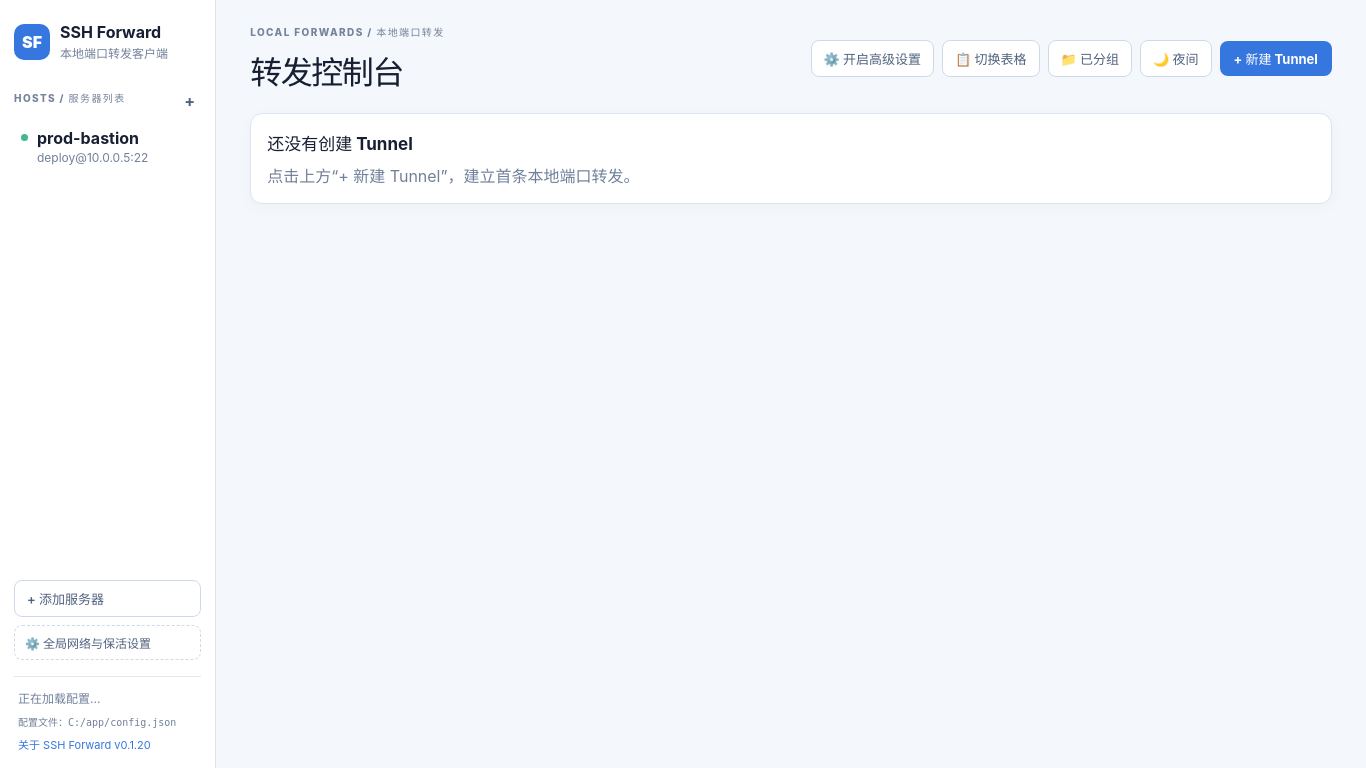
设置面板与 1.5 秒轮询的交互（B2 回归） › 放弃编辑后重新打开面板会回到后端值
Check: the text "prod-bastion" is shown, box x1=37 y1=128 x2=148 y2=148
Click the button "⚙️ 全局网络与保活设置" at {"x": 108, "y": 643}, box x1=14 y1=625 x2=201 y2=660
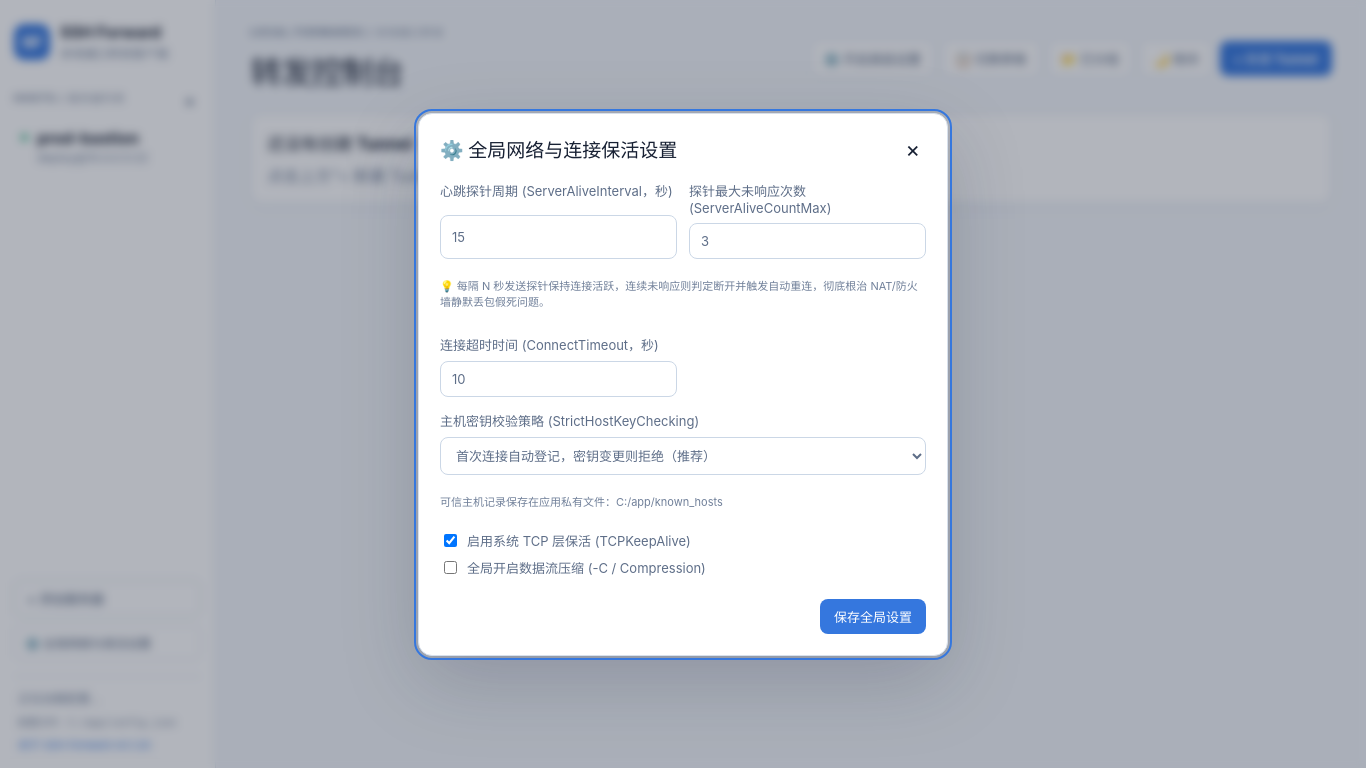
Replace the text in the number field labelled "心跳探针周期 (ServerAliveInterval，秒)" with "99" at {"x": 558, "y": 236}, box x1=440 y1=214 x2=677 y2=258
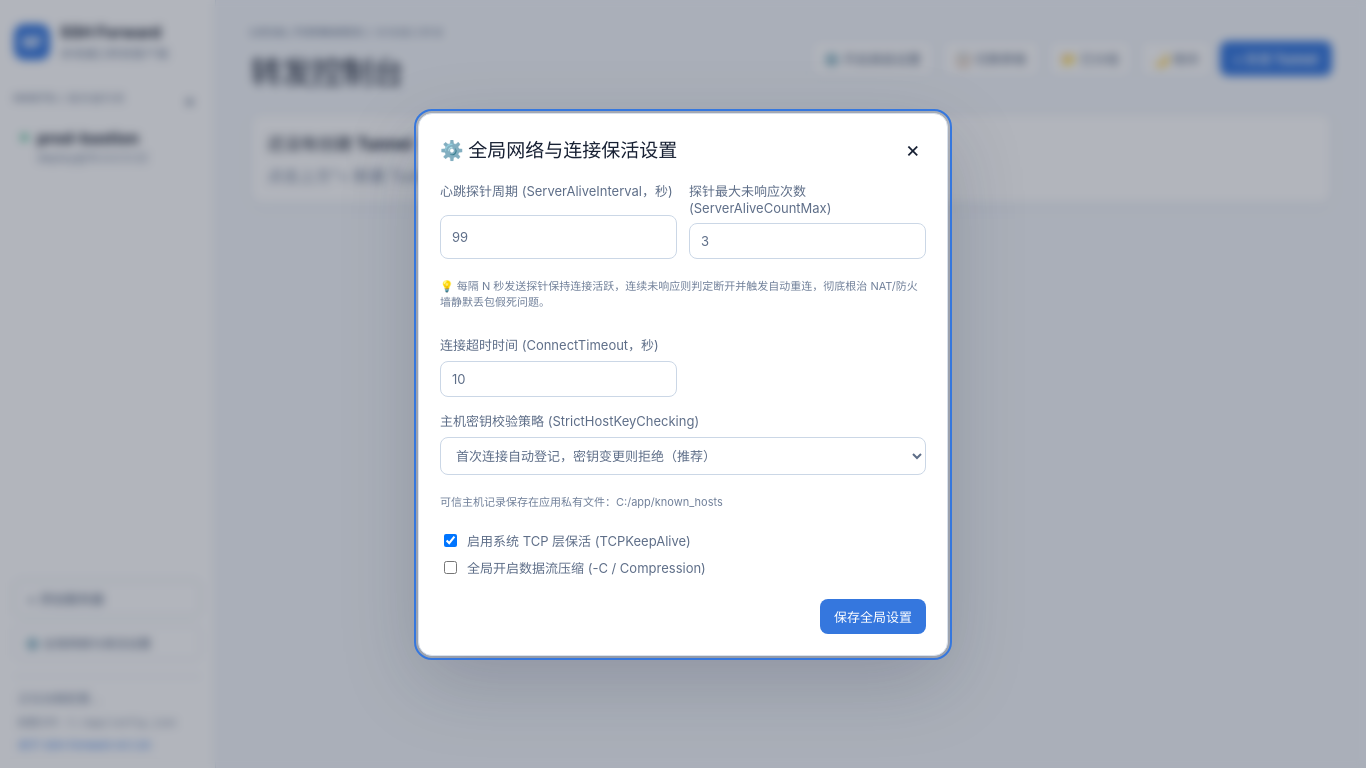
Press Escape
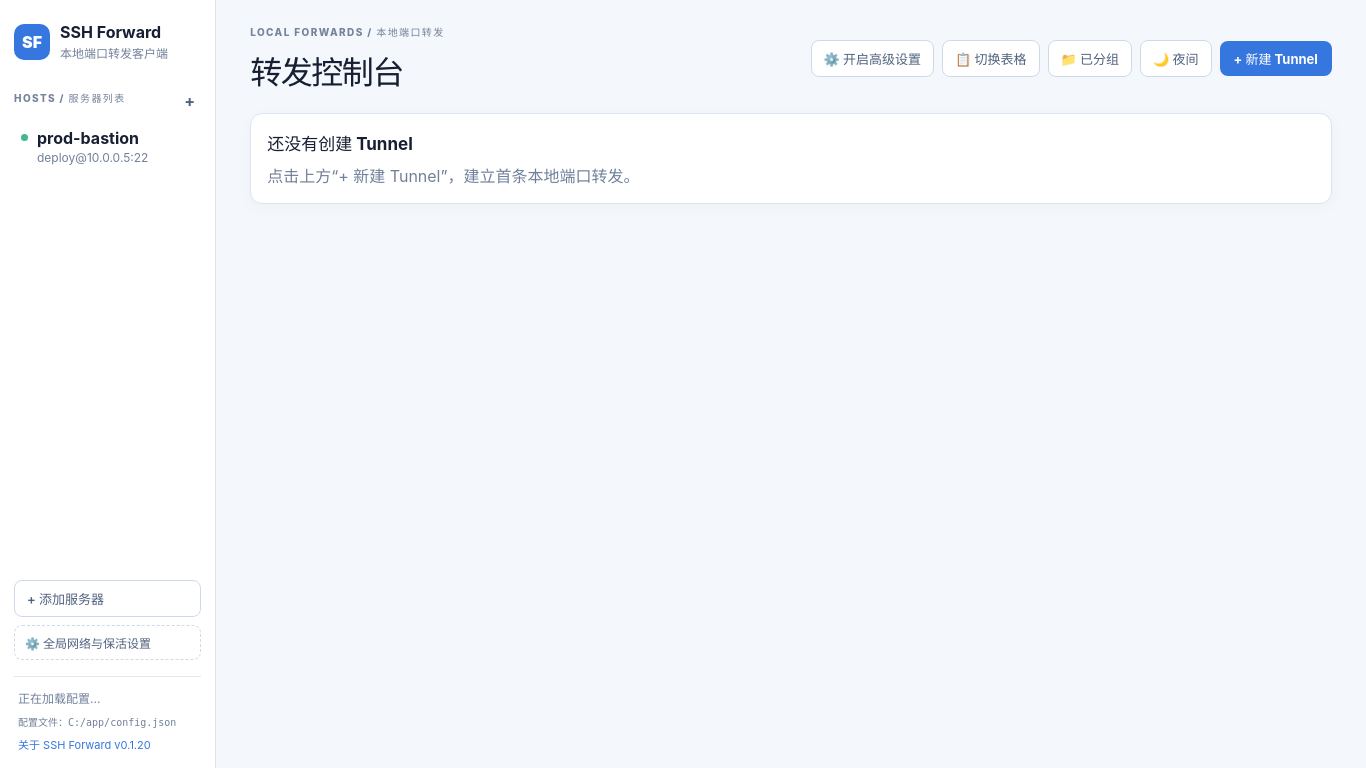
Check: the label labelled "心跳探针周期 (ServerAliveInterval，秒)" is gone
Click the button "⚙️ 全局网络与保活设置" at {"x": 108, "y": 643}, box x1=14 y1=625 x2=201 y2=660
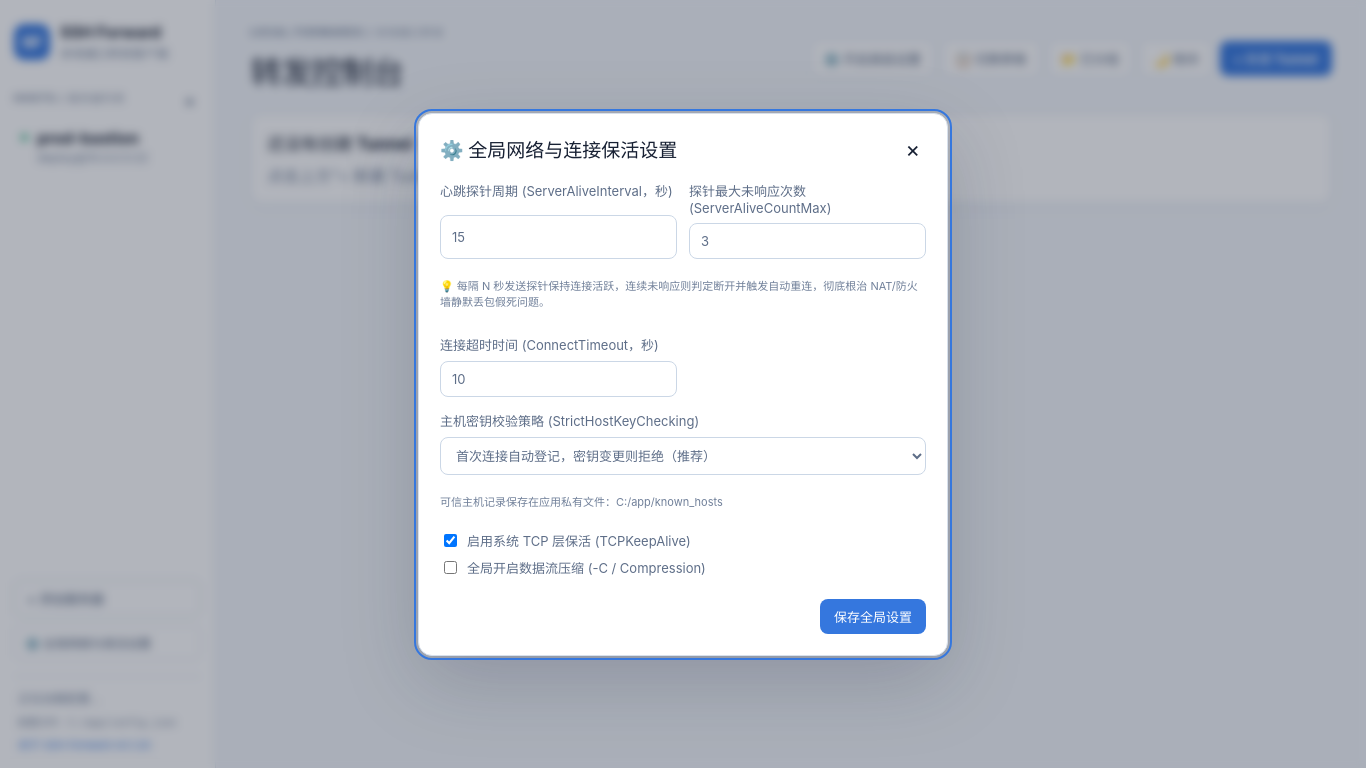
Check: the number field labelled "心跳探针周期 (ServerAliveInterval，秒)" holds "15", box x1=440 y1=214 x2=677 y2=258
